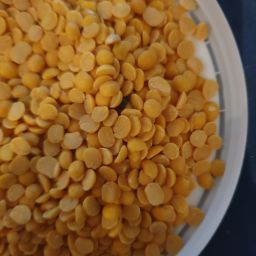Pigeon Pea(toor daal): (2, 3, 229, 256), (88, 8, 217, 256), (44, 45, 162, 256), (17, 13, 104, 256), (153, 85, 207, 193)
